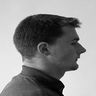ear: (33, 39, 56, 60)
